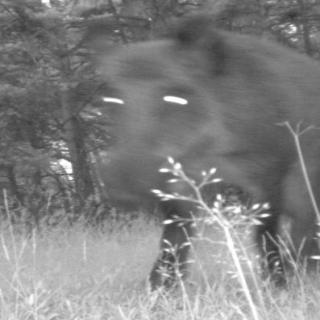Pig: (76, 0, 320, 303)
